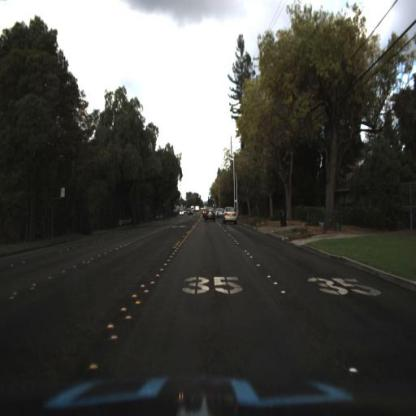car: (221, 204, 241, 227), (202, 204, 218, 227)
